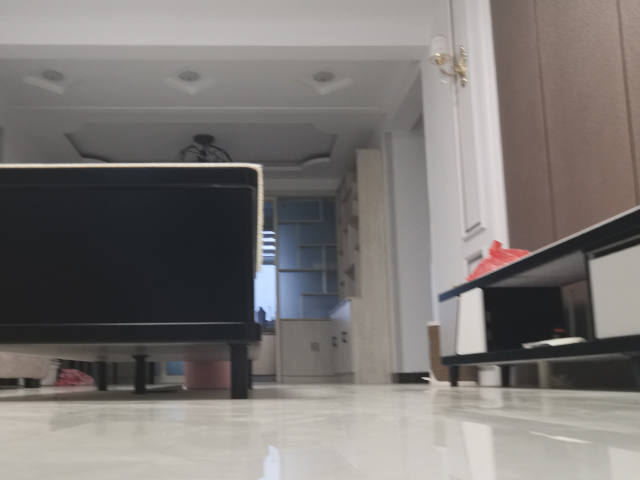cabinet: (433, 205, 640, 388), (278, 314, 352, 389)
table: (1, 159, 265, 402)
